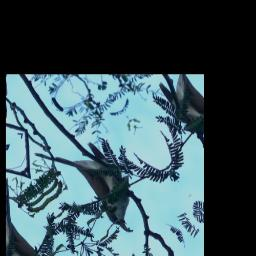Cuckoo: (31, 112, 157, 250)
